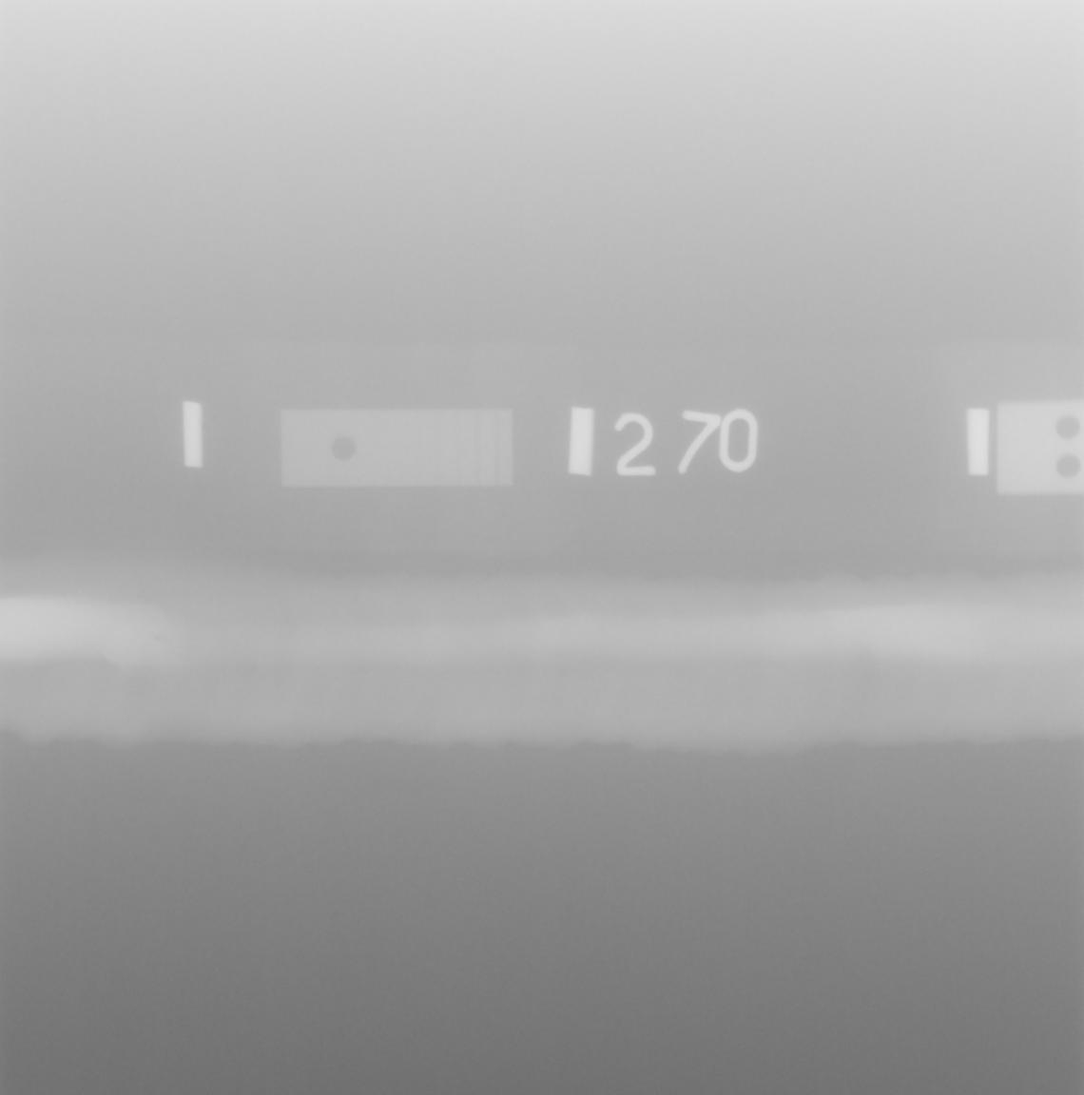Pore/Porosity: (154, 634, 160, 640)
Reference Standard 1: (280, 409, 514, 488)
